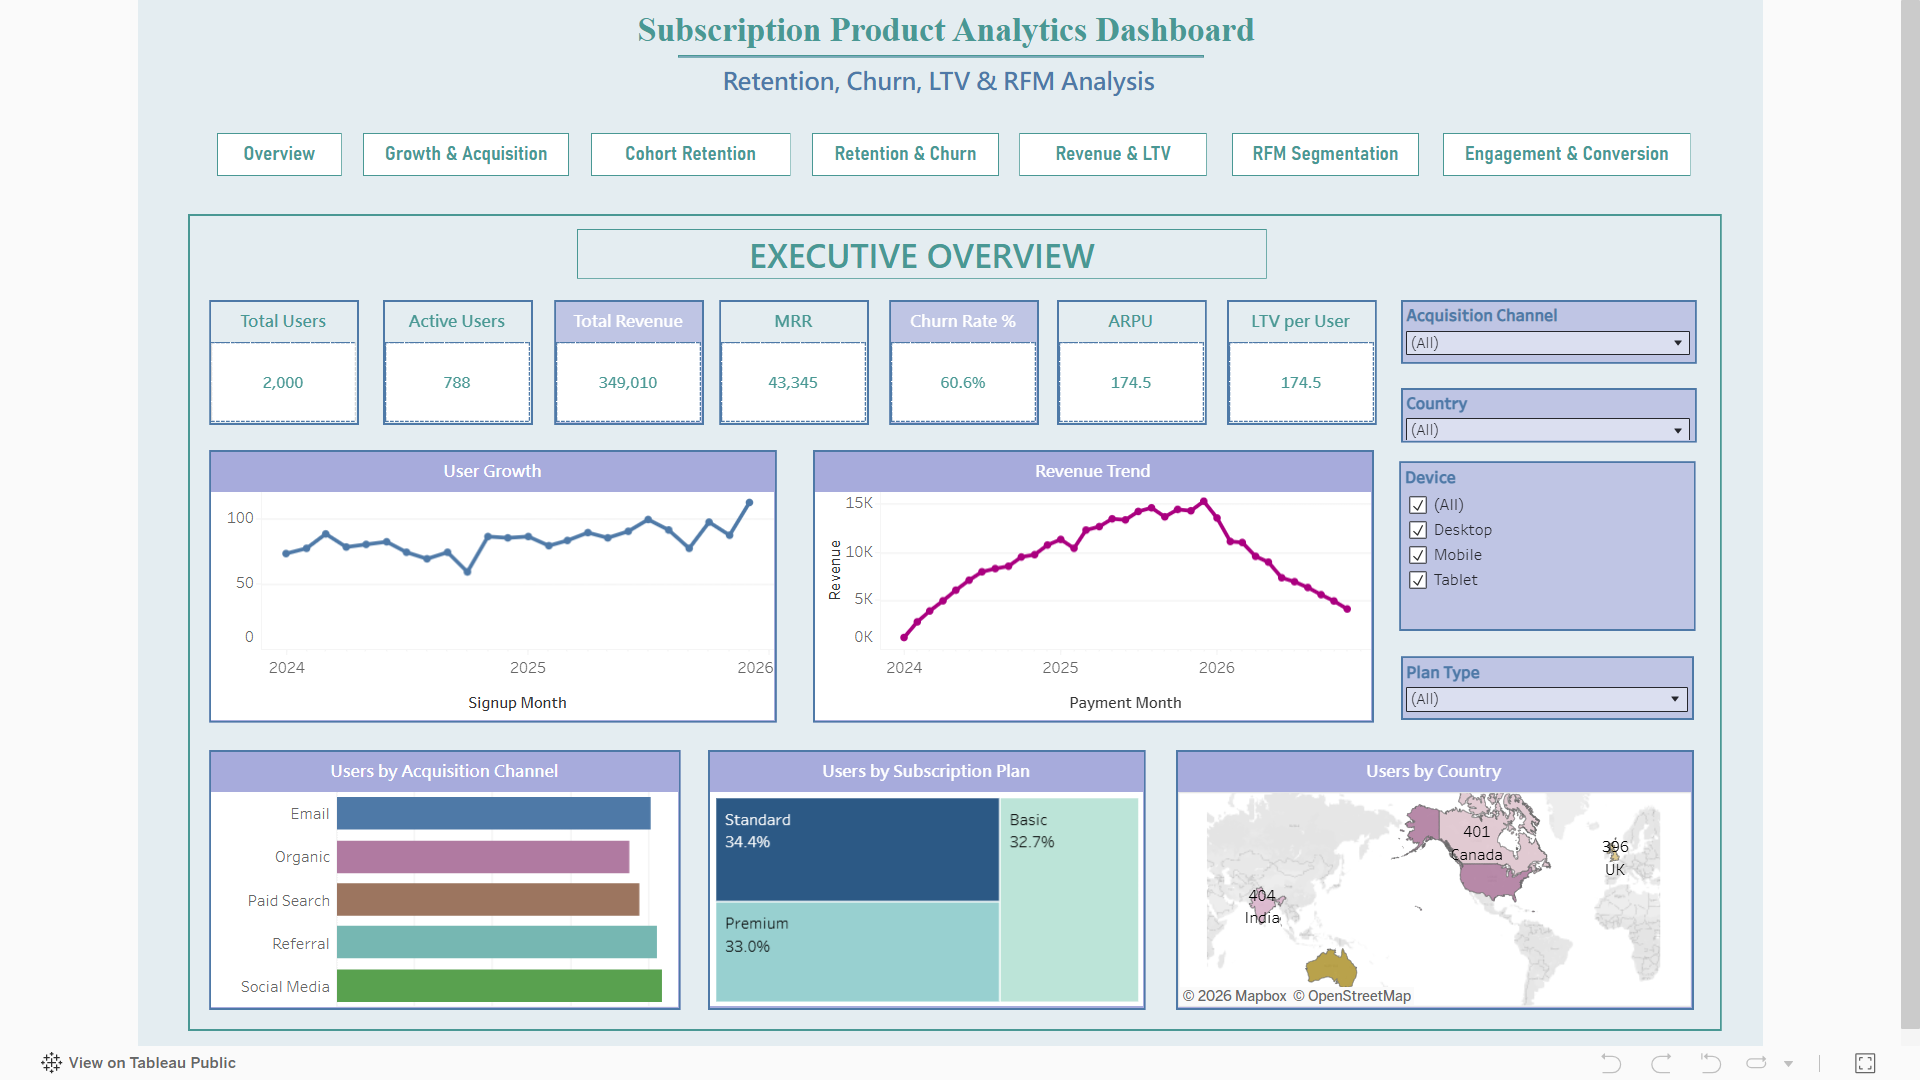

What the dashboard file says about the page in this screenshot:
{"tool":"tableau","page":{"name":"Executive Overview","canvas":[1300,850],"ordinal":2},"visuals":[{"type":"blank","box":[432,44,421,2]},{"type":"text","box":[347,50,587,28]},{"type":"blank","box":[56,99,1191,45]},{"type":"dashboard-object","box":[63,106,100,35]},{"type":"dashboard-object","box":[180,106,165,35]},{"type":"dashboard-object","box":[362,106,160,35]},{"type":"dashboard-object","box":[539,106,150,35]},{"type":"dashboard-object","box":[705,106,150,35]},{"type":"dashboard-object","box":[875,106,150,35]},{"type":"dashboard-object","box":[1044,106,198,35]},{"type":"blank","box":[40,171,1227,654]},{"type":"text","box":[351,183,552,40]},{"type":"worksheet","title":"Total Users","mark":"Automatic","box":[57,240,120,100]},{"type":"worksheet","title":"Active Users","mark":"Automatic","box":[196,240,120,100]},{"type":"worksheet","title":"Total Revenue","mark":"Automatic","box":[333,240,120,100]},{"type":"worksheet","title":"MRR","mark":"Automatic","box":[465,240,120,100]},{"type":"worksheet","title":"Churn Rate","mark":"Automatic","box":[601,240,120,100]},{"type":"worksheet","title":"ARPU","mark":"Automatic","box":[735,240,120,100]},{"type":"worksheet","title":"LTV per User","mark":"Automatic","box":[871,240,120,100]},{"type":"filter","title":"User Growth","param":"[federated.1vvcbkb1517lao19svhhh0a2soji].[none:Acquisition_Channel:nk]","box":[1010,240,237,51]},{"type":"filter","title":"User Growth","param":"[federated.1vvcbkb1517lao19svhhh0a2soji].[none:Country:nk]","box":[1010,310,237,44]},{"type":"worksheet","title":"User Growth","mark":"Automatic","rows":["Calculation_1112952098143047680"],"cols":["Signup_Date"],"box":[57,360,454,218]},{"type":"worksheet","title":"Revenue Trend","mark":"Automatic","rows":["Revenue"],"cols":["Payment_Date"],"box":[540,360,449,218]},{"type":"filter","title":"User Growth","param":"[federated.1vvcbkb1517lao19svhhh0a2soji].[none:Device:nk]","box":[1009,369,237,136]},{"type":"filter","title":"Revenue Trend","param":"[federated.1vvcbkb1517lao19svhhh0a2soji].[none:Plan_Type:nk]","box":[1010,525,235,51]},{"type":"worksheet","title":"Users By Channel","mark":"Bar","rows":["Acquisition_Channel"],"cols":["Calculation_1112952098143047680"],"box":[57,600,377,208]},{"type":"worksheet","title":"Users By Plan","mark":"Automatic","box":[456,600,350,208]},{"type":"worksheet","title":"Users by Country","mark":"Automatic","box":[830,600,415,208]}]}

Visuals, with their boxes in screenshot pixels (x1, y1, x2, y2):
blank: box=[671, 50, 1199, 53]
text: box=[565, 58, 1300, 93]
blank: box=[200, 119, 1693, 175]
dashboard-object: box=[209, 128, 334, 172]
dashboard-object: box=[356, 128, 562, 172]
dashboard-object: box=[584, 128, 784, 172]
dashboard-object: box=[805, 128, 993, 172]
dashboard-object: box=[1013, 128, 1201, 172]
dashboard-object: box=[1226, 128, 1414, 172]
dashboard-object: box=[1438, 128, 1686, 172]
blank: box=[180, 209, 1718, 1029]
text: box=[570, 224, 1261, 274]
"Total Users" worksheet: box=[201, 296, 352, 421]
"Active Users" worksheet: box=[376, 296, 526, 421]
"Total Revenue" worksheet: box=[547, 296, 698, 421]
"MRR" worksheet: box=[713, 296, 863, 421]
"Churn Rate" worksheet: box=[883, 296, 1033, 421]
"ARPU" worksheet: box=[1051, 296, 1201, 421]
"LTV per User" worksheet: box=[1221, 296, 1372, 421]
"User Growth" filter: box=[1396, 296, 1693, 360]
"User Growth" filter: box=[1396, 383, 1693, 439]
"User Growth" worksheet: box=[201, 446, 770, 719]
"Revenue Trend" worksheet: box=[807, 446, 1369, 719]
"User Growth" filter: box=[1394, 457, 1691, 628]
"Revenue Trend" filter: box=[1396, 653, 1690, 717]
"Users By Channel" worksheet (Bar marks): box=[201, 747, 674, 1007]
"Users By Plan" worksheet: box=[701, 747, 1140, 1007]
"Users by Country" worksheet: box=[1170, 747, 1690, 1007]
